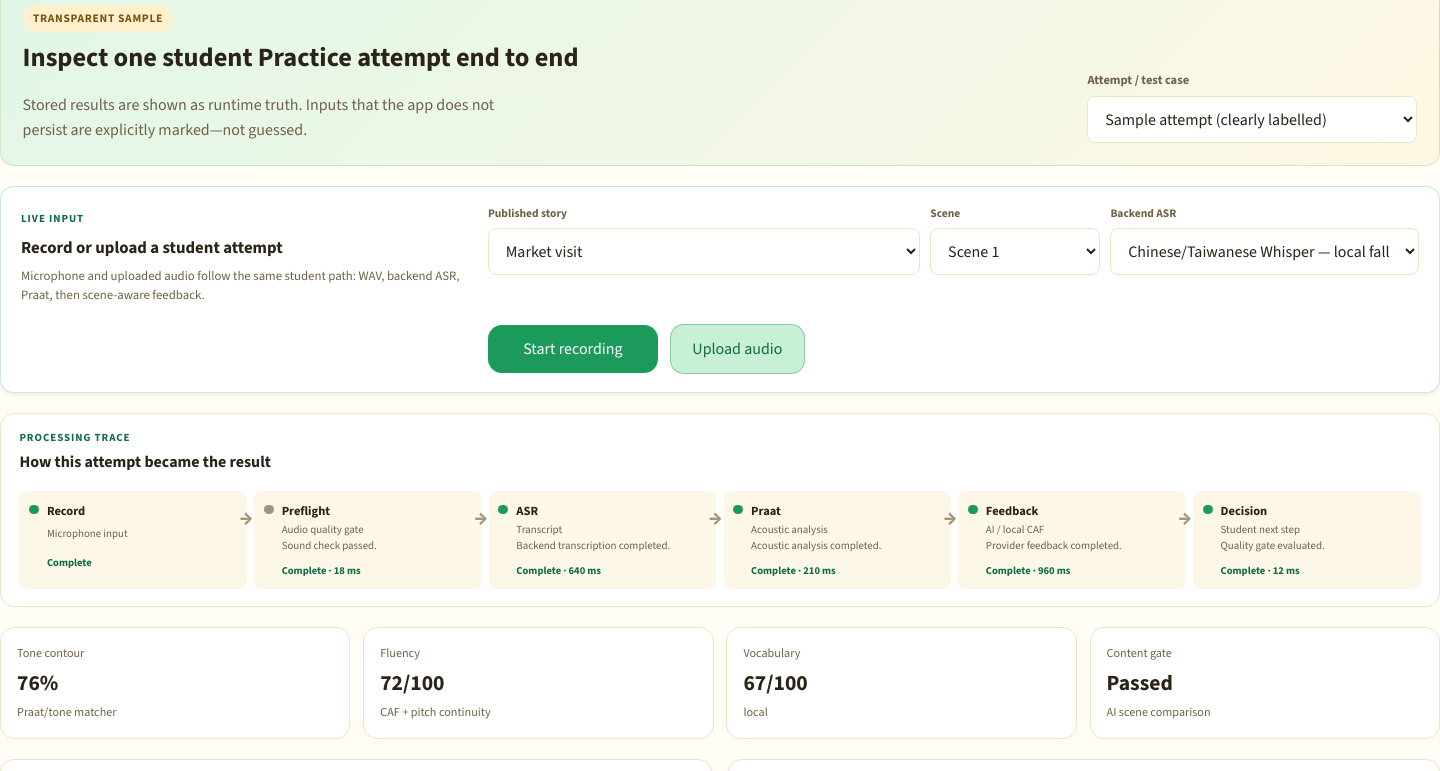
Scenario: TeacherPracticeDebugPage › records a live attempt with the same scene context sent by student practice
Expected: the dropdown labelled "Published story" shows "Market visit", x1=488 y1=228 x2=920 y2=275
Click the button "Start recording" at (573, 349), box x1=488 y1=325 x2=658 y2=373
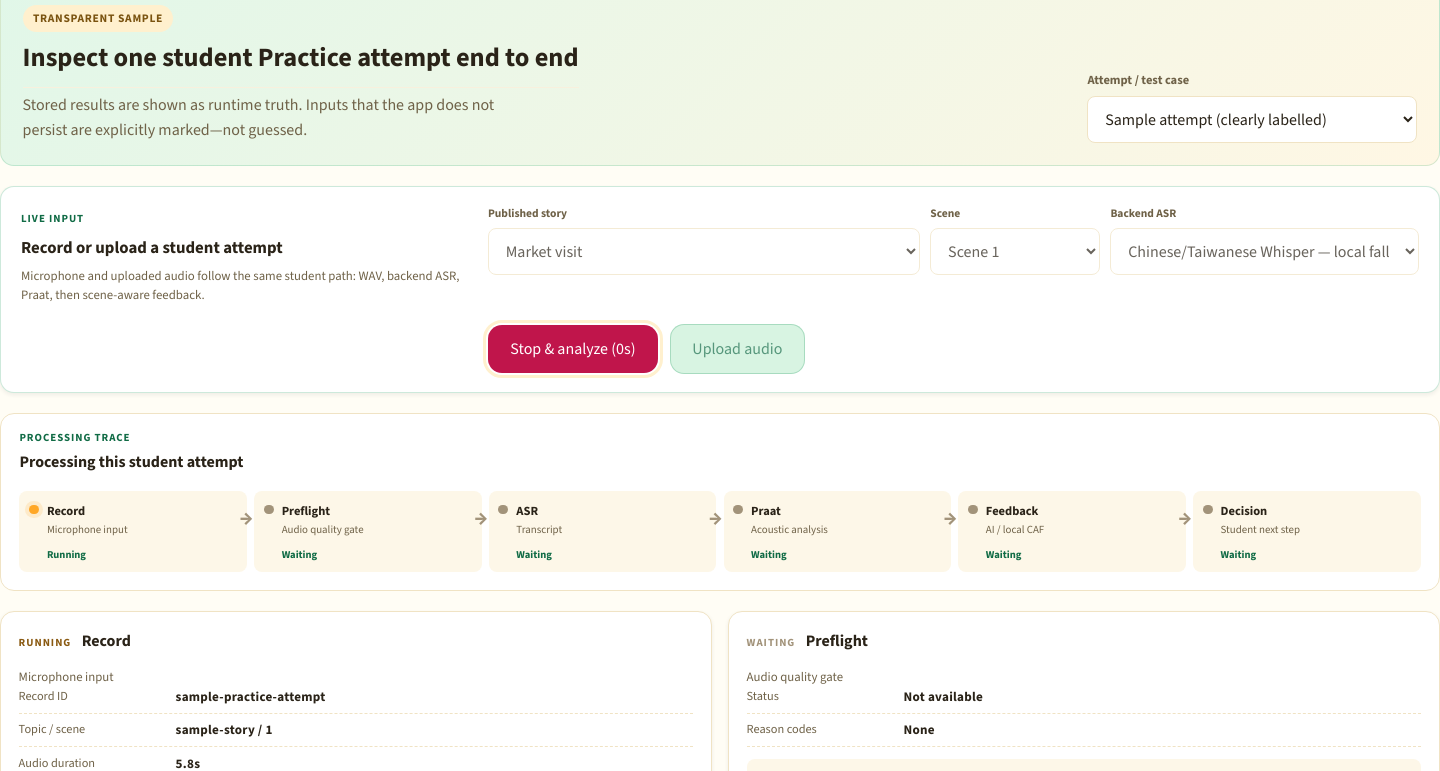
Click the button "Stop & analyze (0s)" at (573, 349), box x1=488 y1=325 x2=658 y2=373
(page scrolled)
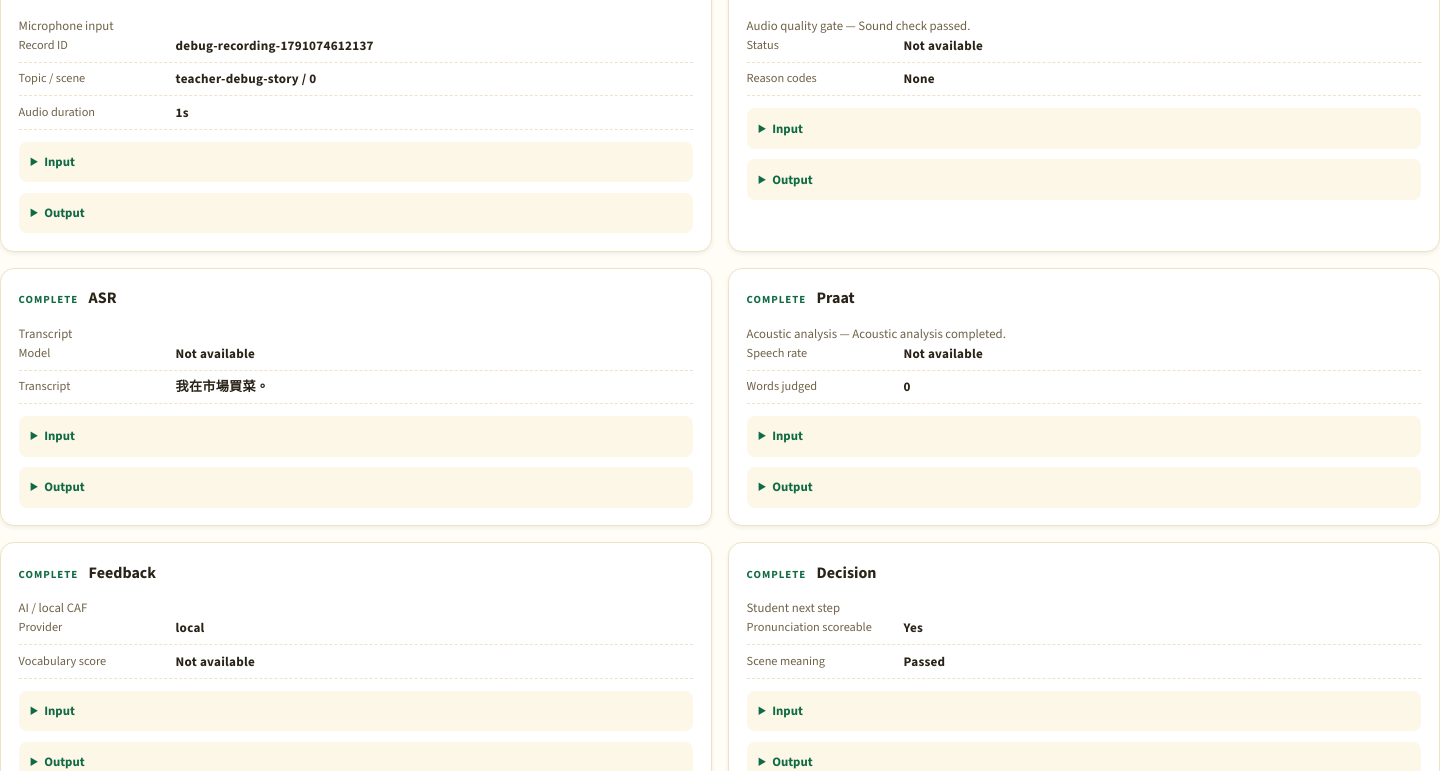
Expected: the text "我在市場買菜。" is shown, x1=176 y1=378 x2=269 y2=395
